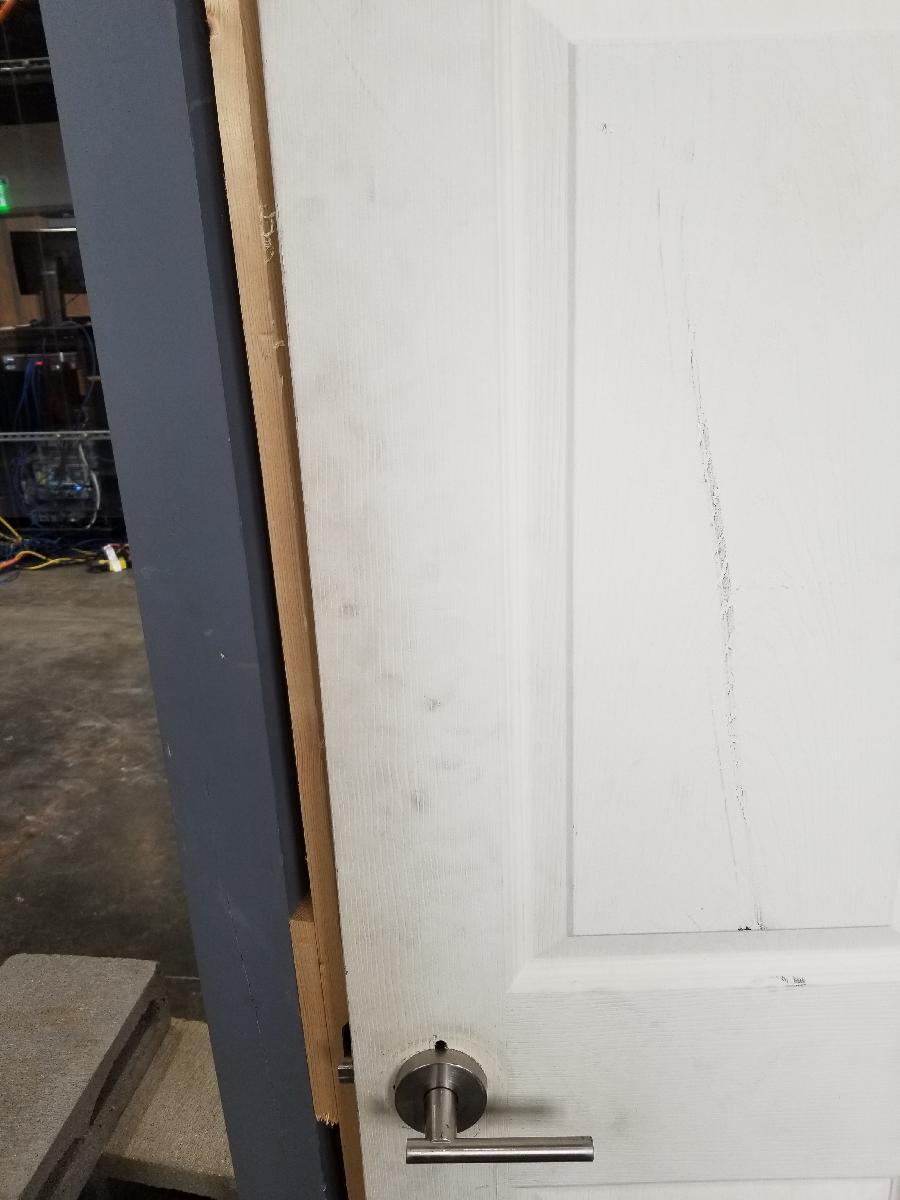door: (336, 1, 900, 1200)
handle: (378, 1038, 602, 1169)
